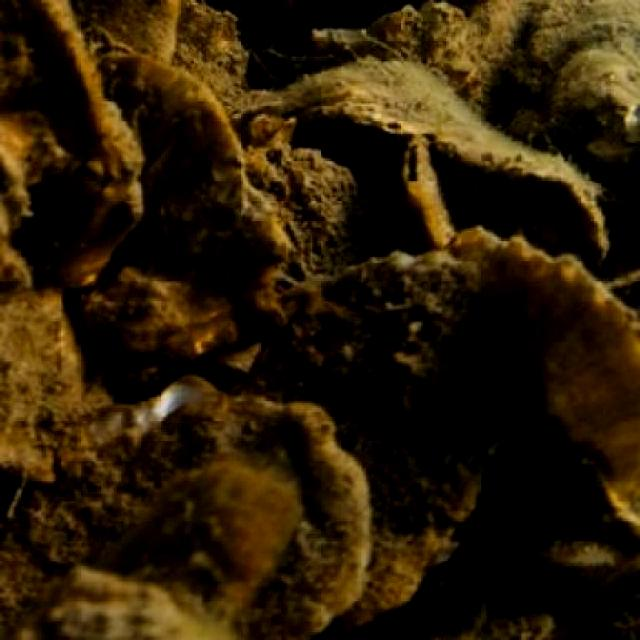Oyster-Closed: (236, 249, 520, 628), (0, 379, 373, 640), (440, 233, 640, 602), (251, 60, 611, 258), (68, 60, 288, 383), (434, 0, 640, 233), (0, 0, 156, 300), (0, 300, 148, 487)
Oyster-Open: (387, 136, 453, 249)
